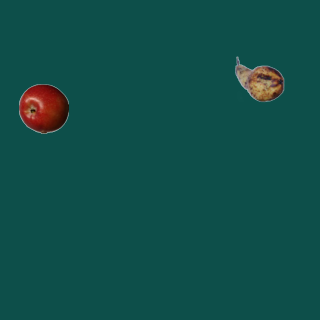Apple Braeburn: (18, 83, 68, 133)
Pear Abate: (234, 54, 284, 104)
